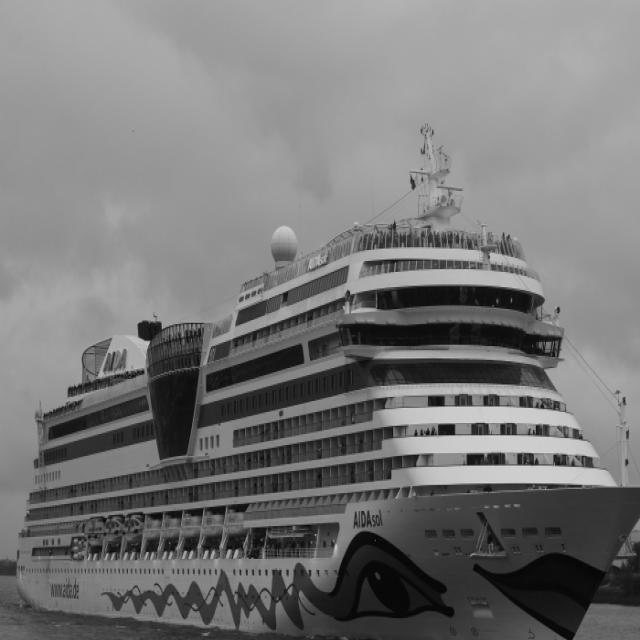cruises: (12, 120, 640, 640)
